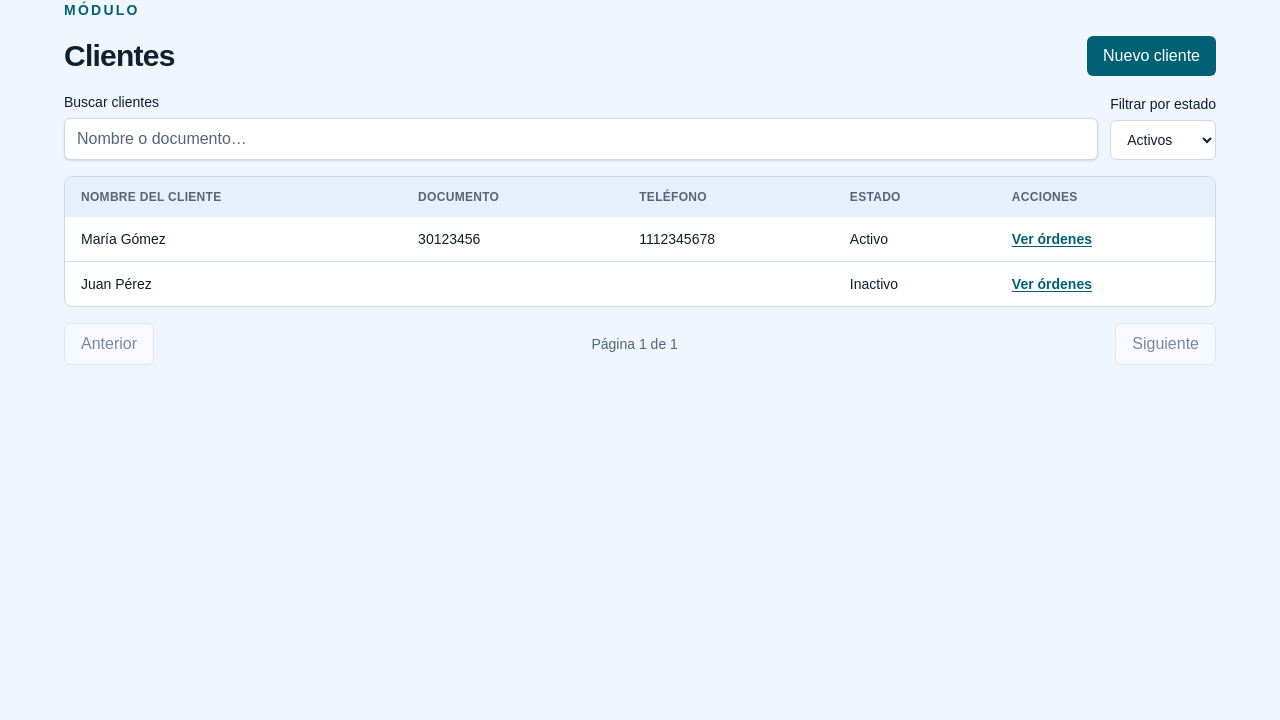
Test case: ClientesPage › creates a client, shows a toast, and refreshes the list
The image size is (1280, 720).
Expected: the text "María Gómez" is shown, [65,217,402,262]
Click the button "Nuevo cliente": (1152, 56) [1087,36,1216,76]
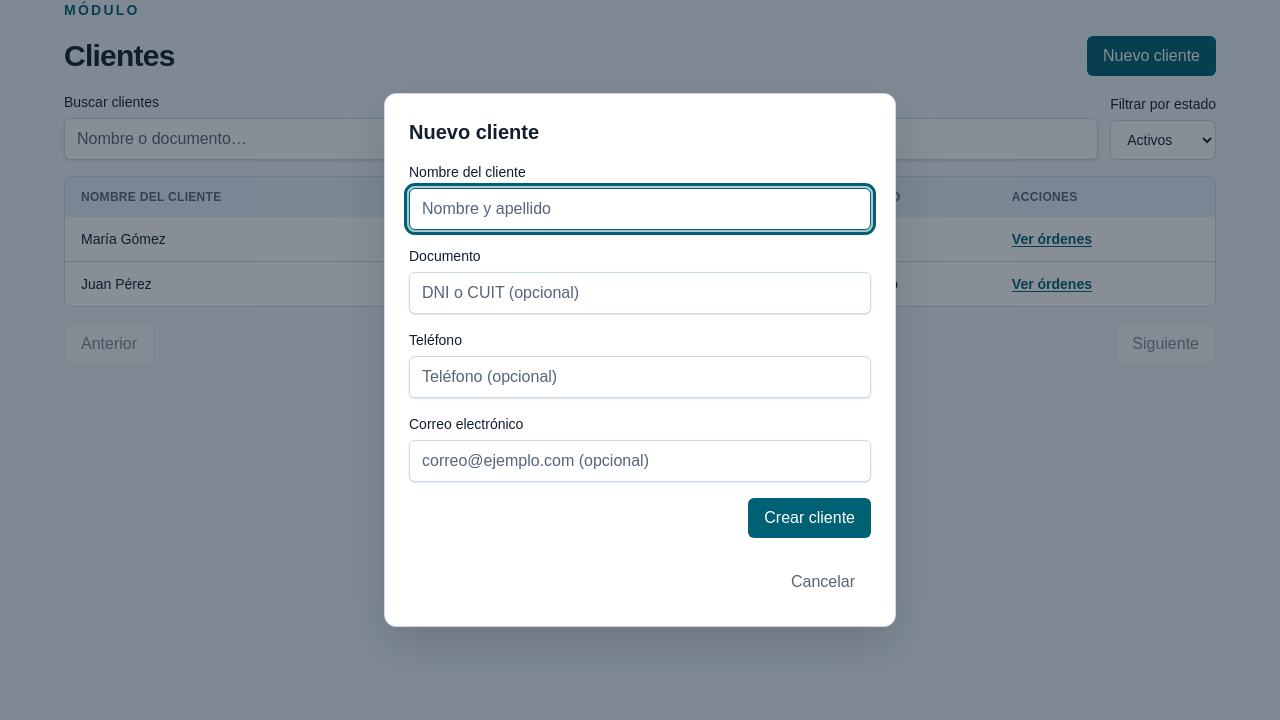
In the field labelled "Nombre del cliente": (640, 209) [409,188,871,230], type "Ana Ruiz"
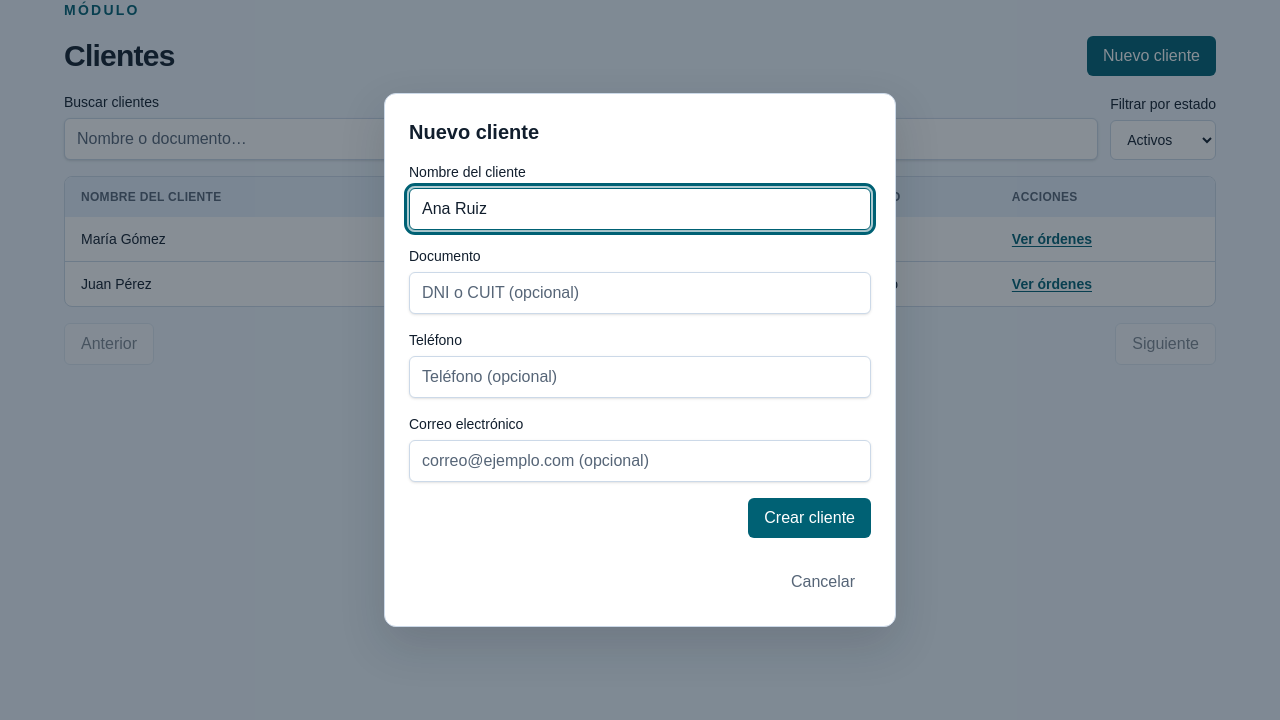
Click the button "Crear cliente": (810, 518) [748,498,871,538]
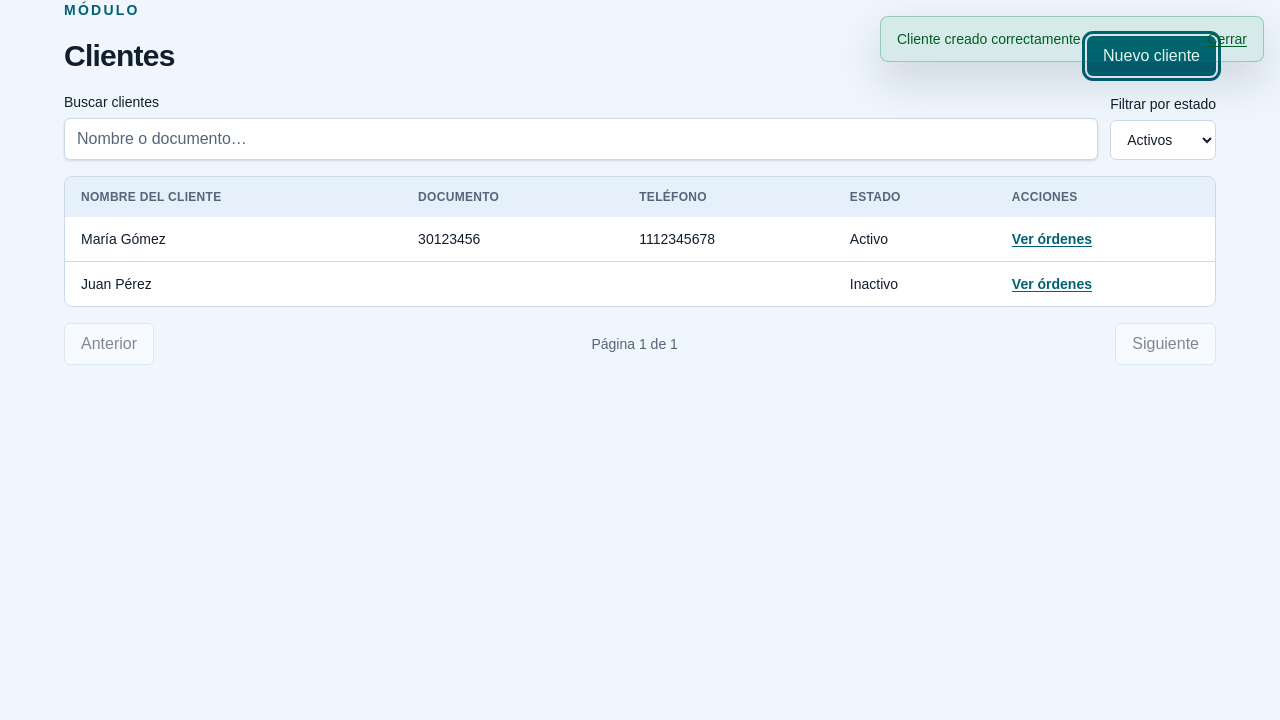
Expected: the message shows "Cliente creado correctamente.", [897,31,1084,47]
